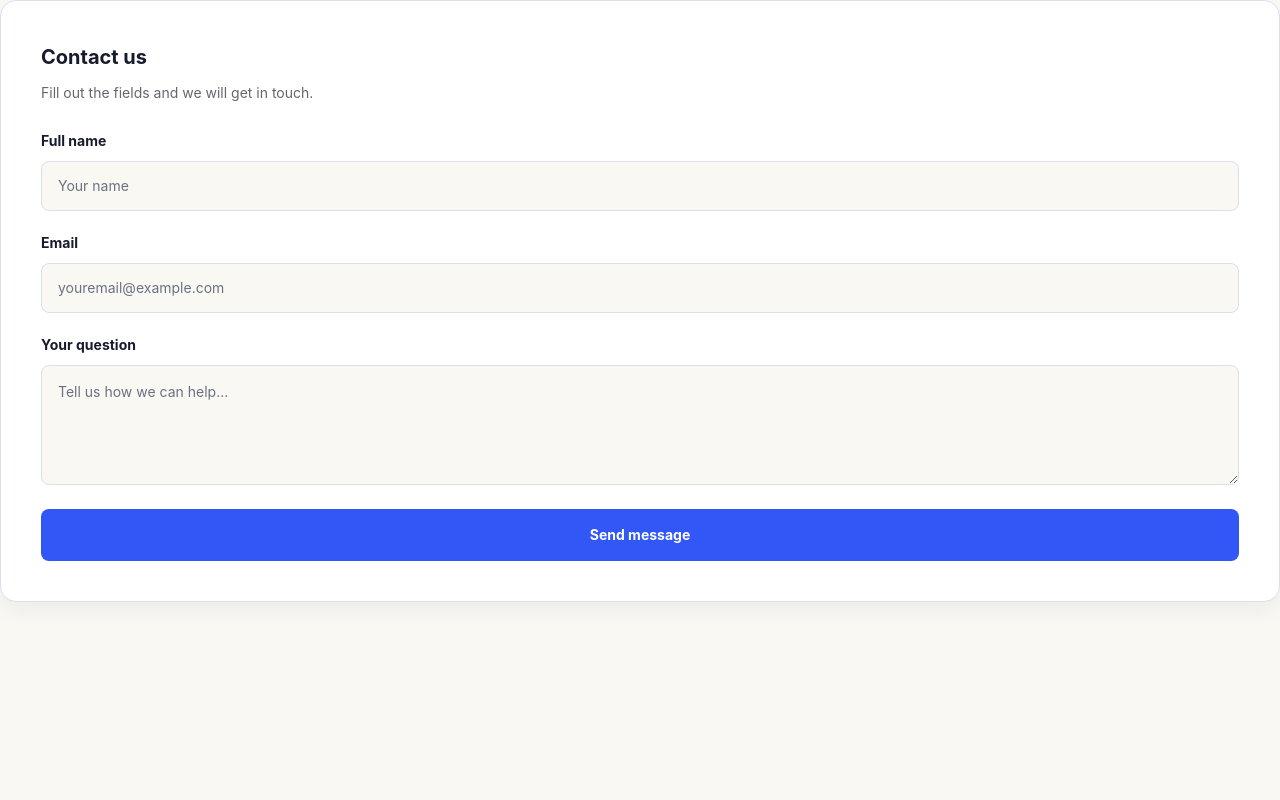
Test case: ContactForm › validates the email format when the field loses focus and clears the error once fixed
Type "maya@example" into the field labelled "Email". click: (640, 288)
box: [41,263,1239,313]
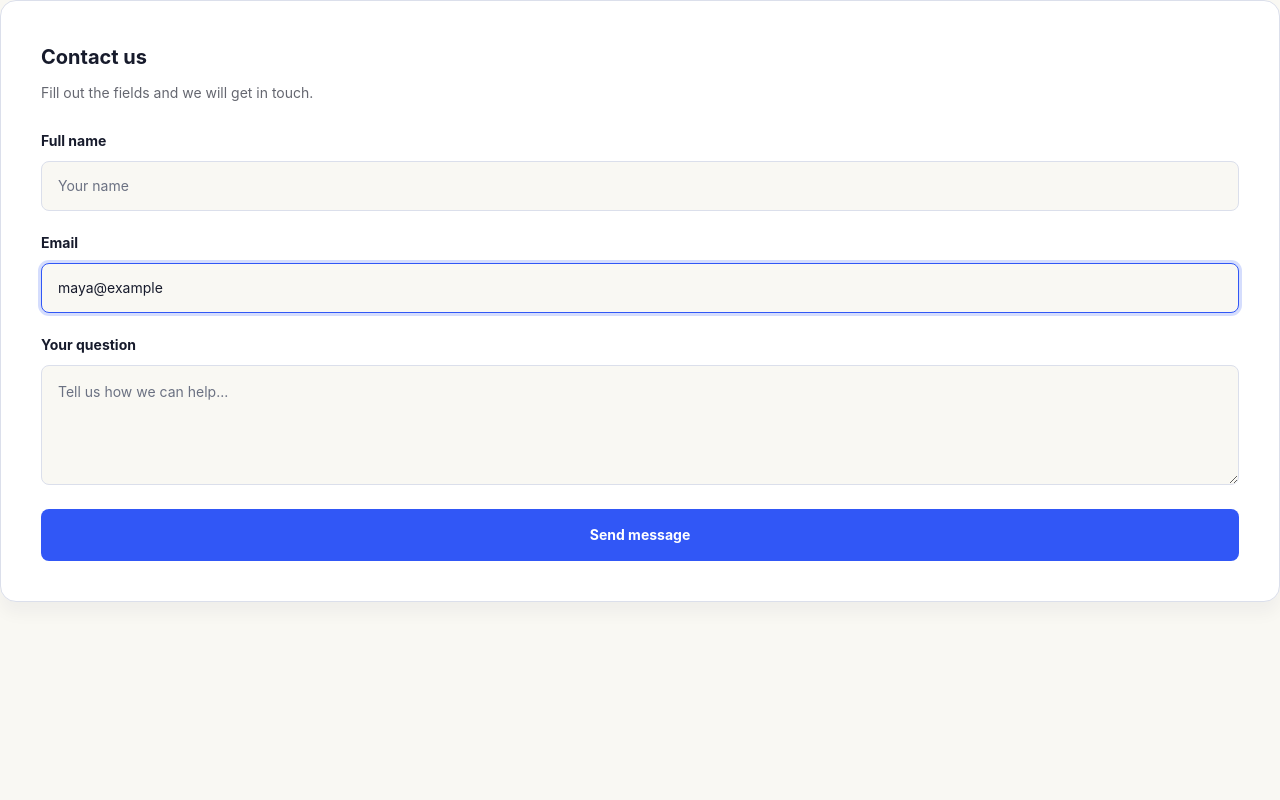
Press Tab
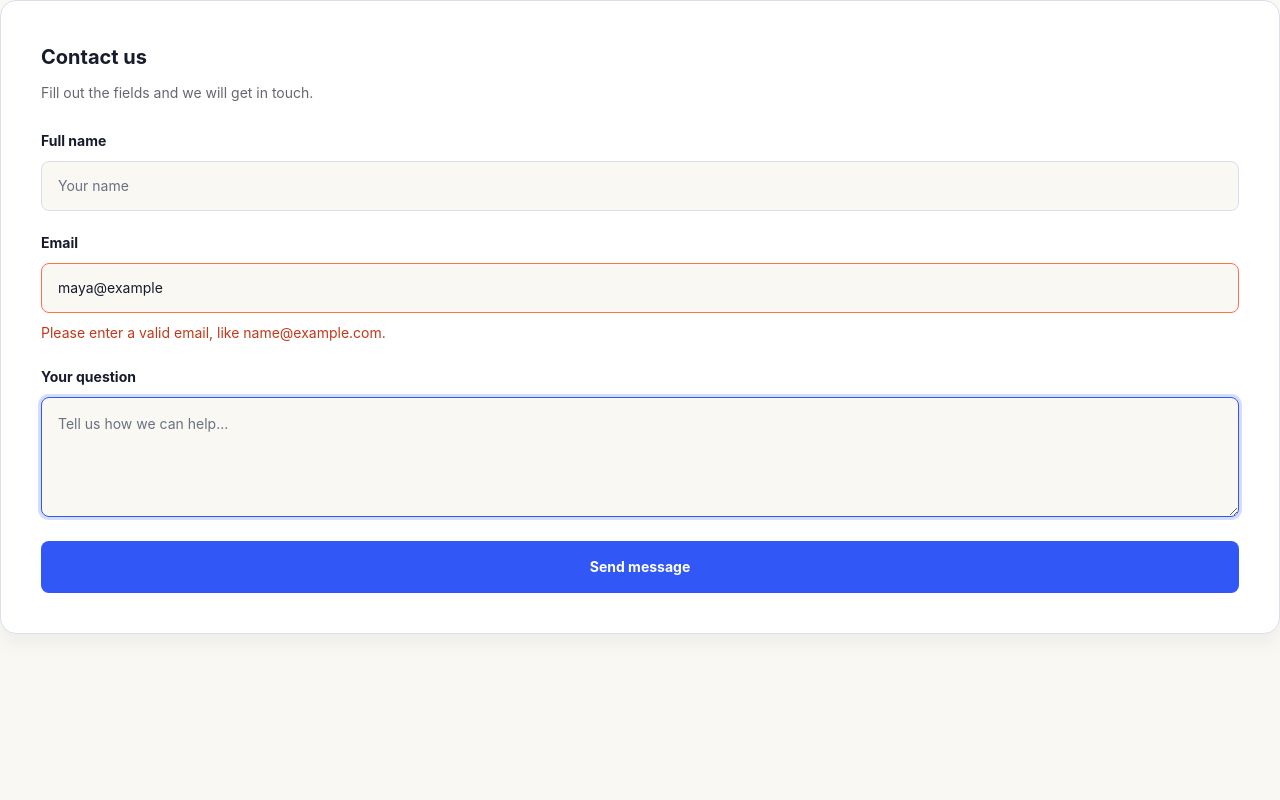
Type ".com" into the field labelled "Email". click: (640, 288)
box: [41,263,1239,313]
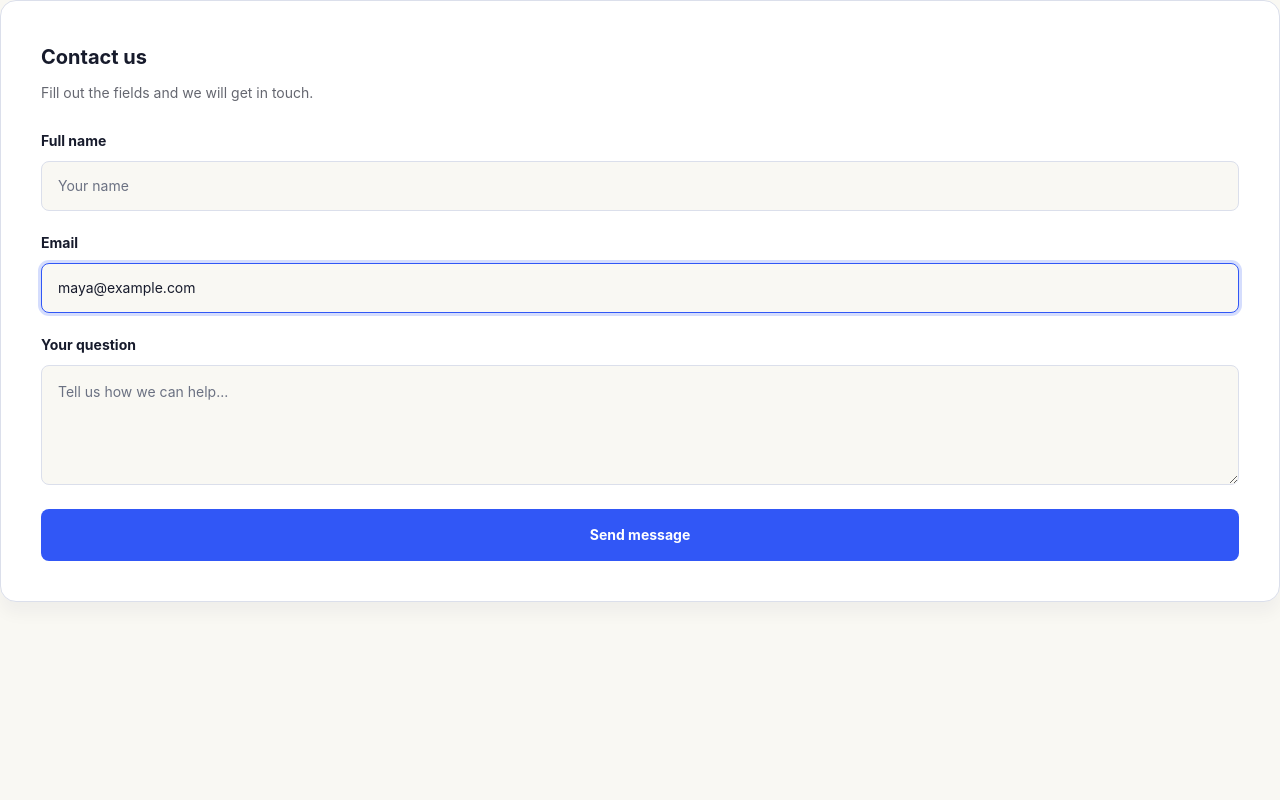
Expected: the field labelled "Email" does not have attribute aria-invalid, [41,263,1239,313]
